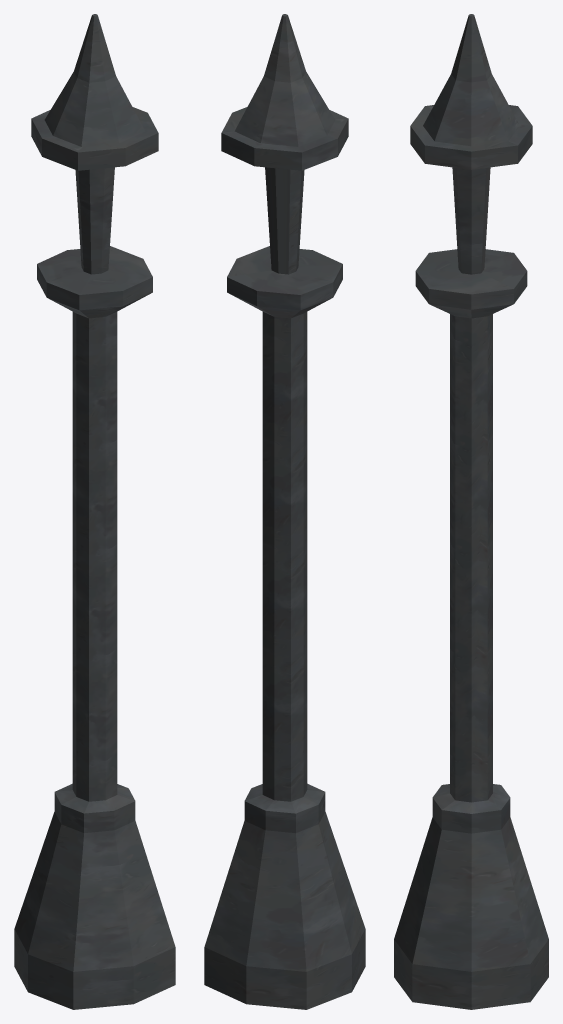
Rendered from lampPost.glb.
3 views of the same model, side by side, from view 1: azimuth 30°, elevation 25°; view 2: azimuth 150°, elevation 25°; view 3: azimuth 270°, elevation 25° (orthographic).
Visible parts, largest first — view 1: Cube.221; view 2: Cube.221; view 3: Cube.221.
Boxes of the visible parts, <box> form: Cube.221: <box>14,14,175,1009</box>; Cube.221: <box>204,14,365,1009</box>; Cube.221: <box>394,14,548,1009</box>.
Bounding box in the file's own units: 0.3994 × 2.74 × 0.3994.
Materials: 1 (1 with a texture image).
